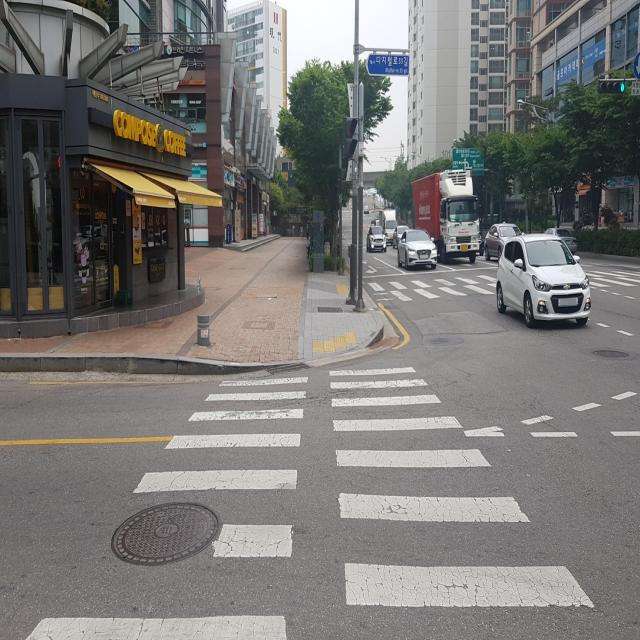횡단보도: (23, 364, 596, 640), (366, 267, 640, 303)
